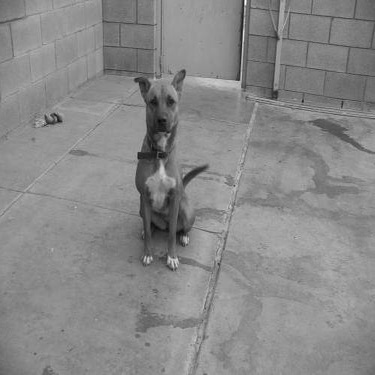dog: (104, 55, 218, 282)
